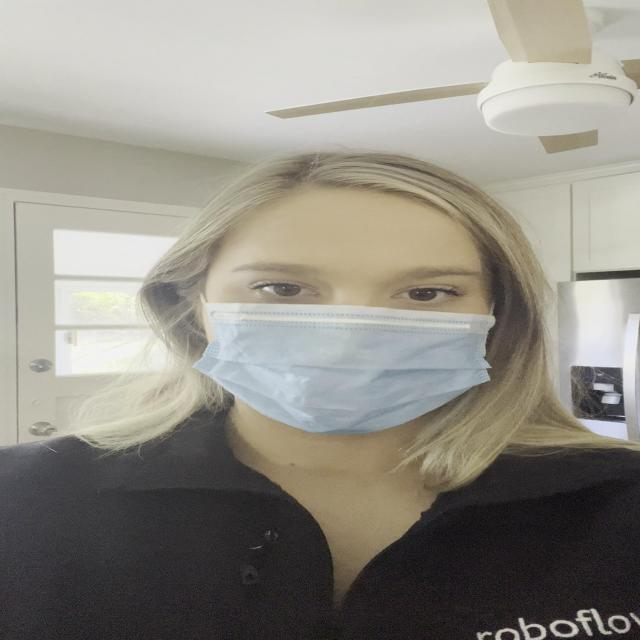no-helmet: (193, 183, 502, 438)
